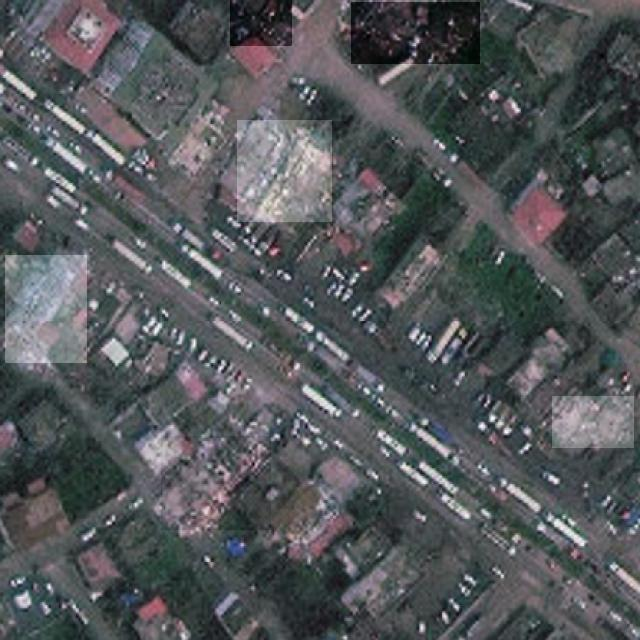Rubble: (161, 436, 271, 530), (237, 120, 332, 222), (5, 255, 87, 363), (351, 2, 480, 64), (552, 396, 634, 448), (290, 487, 342, 548), (4, 11, 56, 72), (230, 0, 292, 46)
